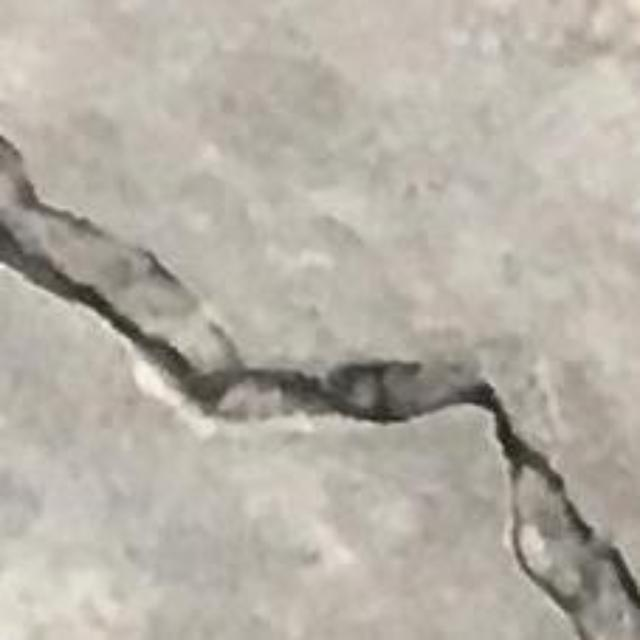crack: (0, 136, 639, 639)
